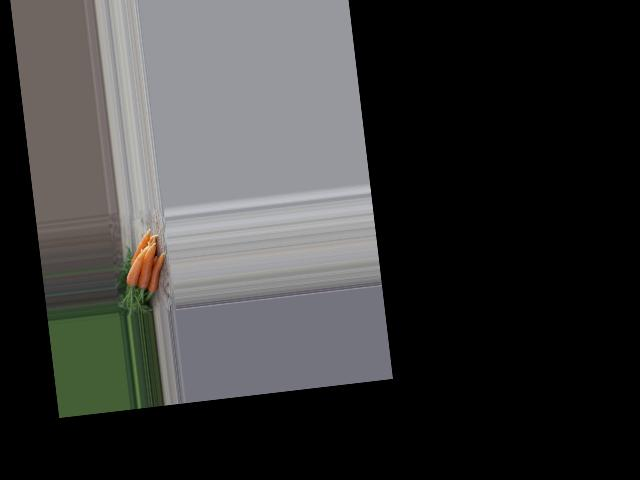carrot: (142, 248, 169, 294)
